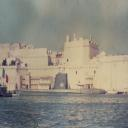submarine: (10, 74, 107, 95)
